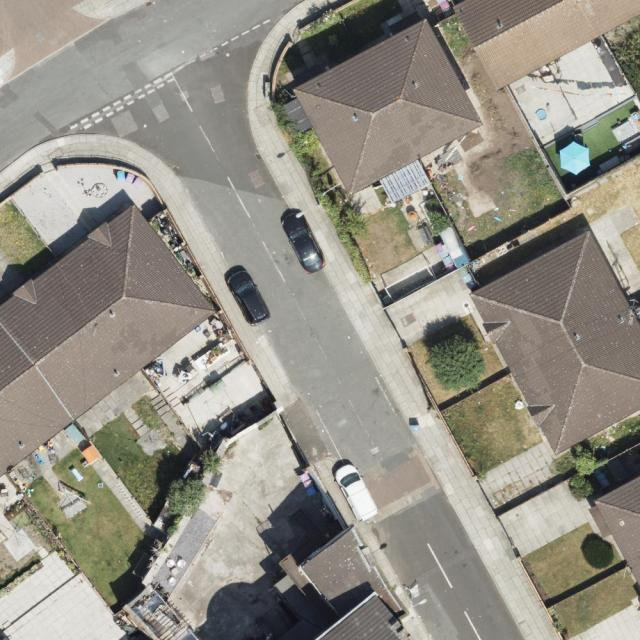roof: (0, 205, 219, 484), (466, 231, 639, 457), (290, 19, 483, 204), (451, 0, 640, 91), (297, 524, 414, 640), (582, 476, 640, 590)
